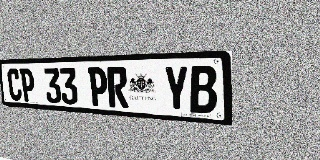3: (59, 68, 78, 105), (44, 68, 62, 104)
B: (189, 65, 217, 114)
C: (7, 69, 22, 101)
P: (88, 67, 108, 107), (19, 68, 36, 102)
R: (107, 67, 129, 108)
Y: (163, 66, 189, 112)
